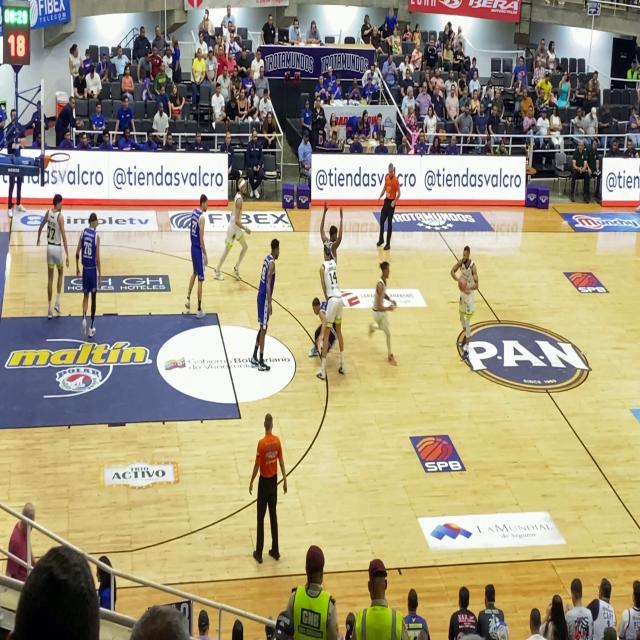Ball: (458, 268, 470, 296)
referee: (245, 408, 291, 570), (373, 159, 406, 265)
team1: (28, 172, 74, 327), (312, 247, 354, 391), (212, 168, 252, 298), (447, 227, 482, 365), (368, 253, 407, 373)
team2: (248, 221, 286, 385), (73, 199, 108, 350), (181, 190, 216, 336), (324, 196, 350, 272)
ubasket: (47, 150, 71, 183)
